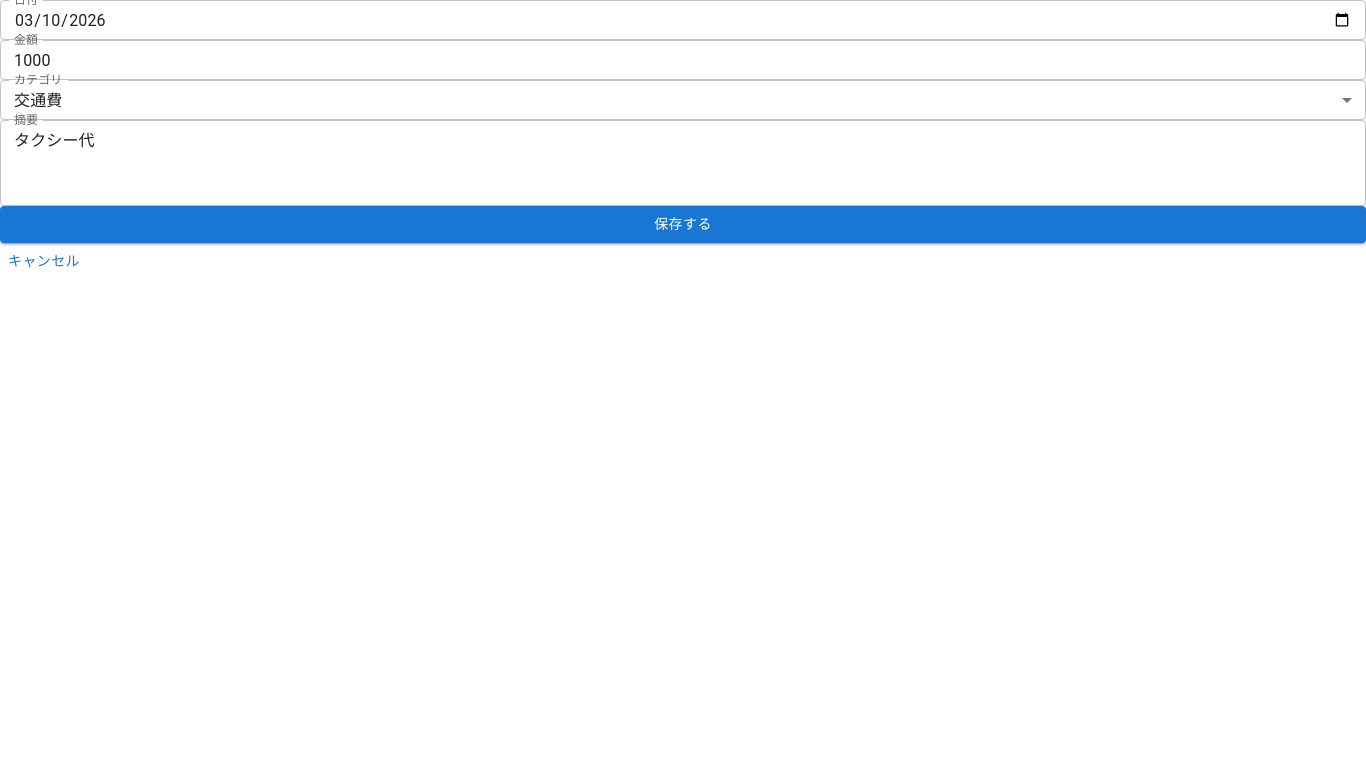
ItemForm › ITM-FE-100: 期間終了日より後の日付（editモード）で保存するとConfirmDialogが表示される
# expenseDate を '2026-05-05'（終了日 2026-04-30 より後）に変更して保存ボタン押下。
Type "2026-05-05" into the date field labelled "日付" at (683, 20), box x1=0 y1=0 x2=1365 y2=40
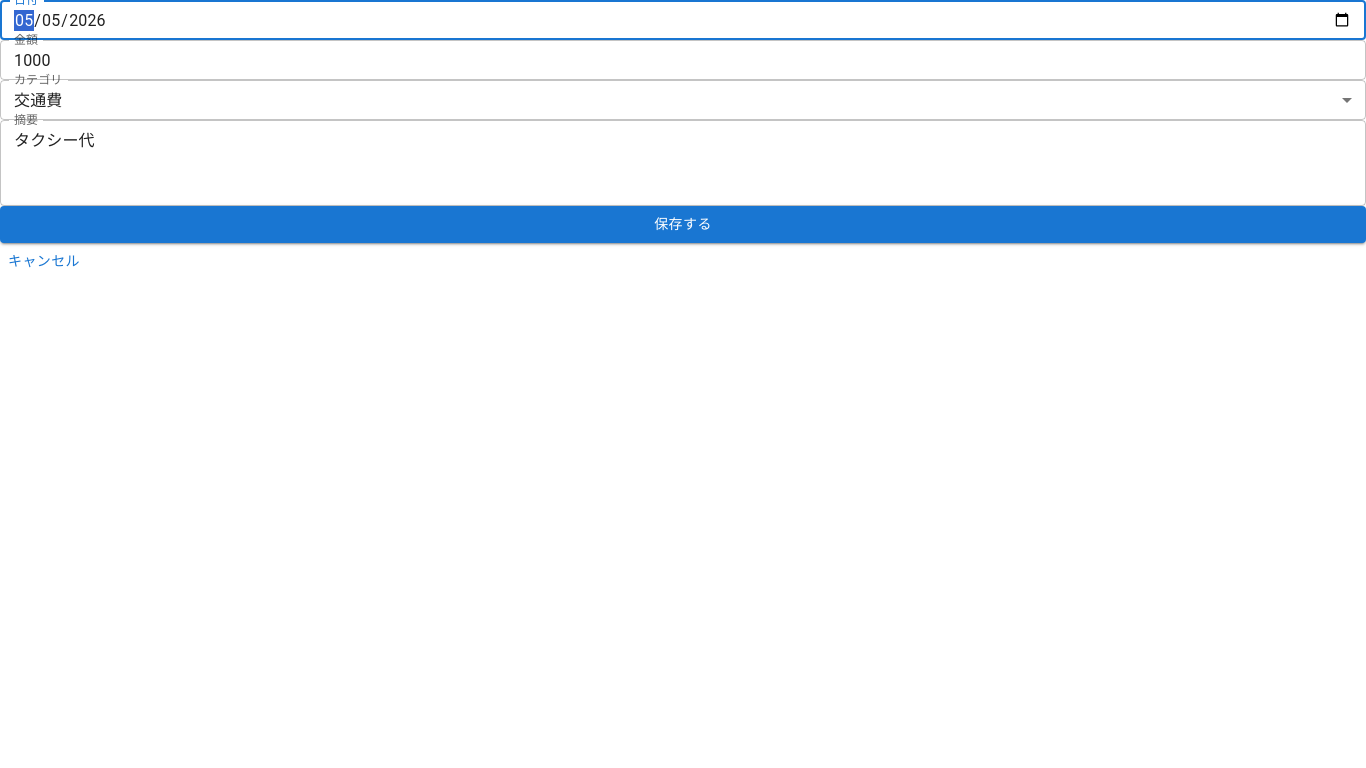
Click the button "保存する" at (683, 224), box x1=0 y1=206 x2=1365 y2=242
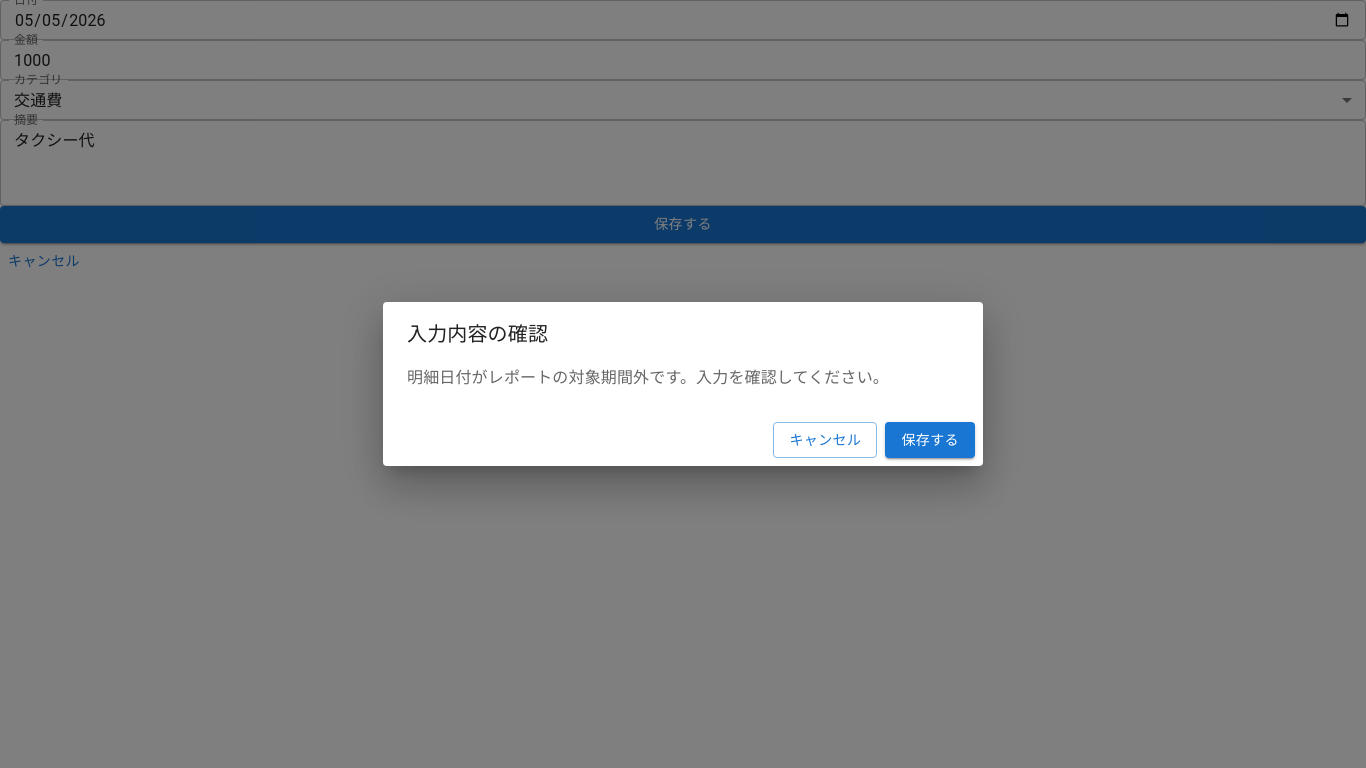
Expected: the text "明細日付がレポートの対象期間外です。入力を確認してください。" is shown, x1=407 y1=366 x2=959 y2=390
